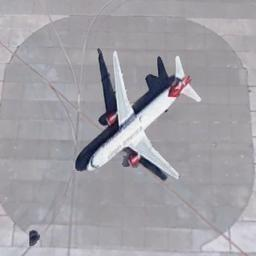Airplane: (74, 47, 201, 181)
